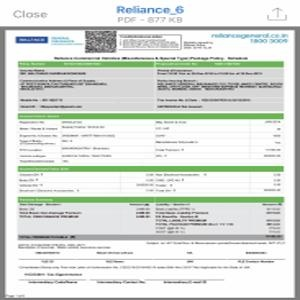image: (13, 36, 50, 45)
table: (16, 59, 287, 112), (17, 114, 286, 164), (19, 196, 287, 240), (19, 166, 286, 195)
text: (209, 32, 290, 45)
